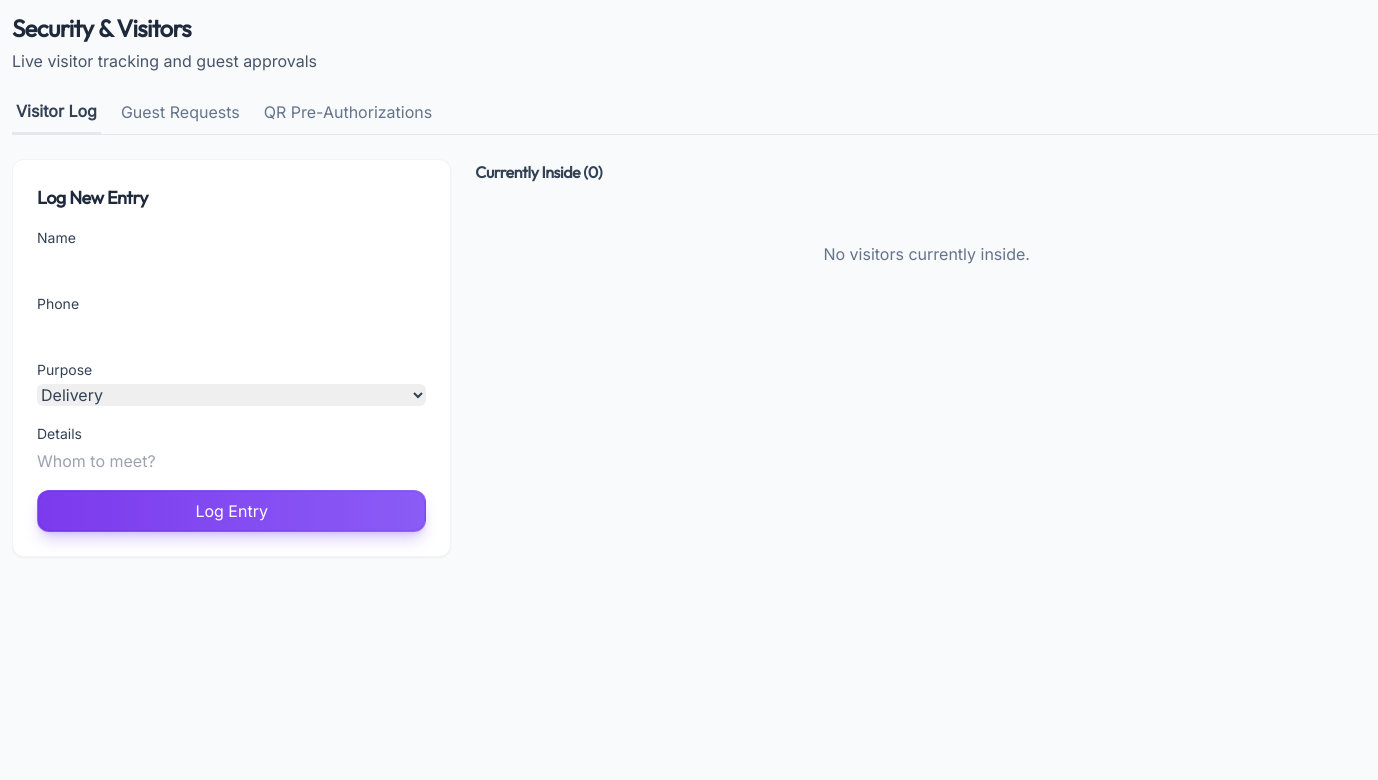
Test case: VisitorLog Component – Owner / Security › renders pending guest request cards
Click the button "Guest Requests": (180, 116) [117,98,244,134]
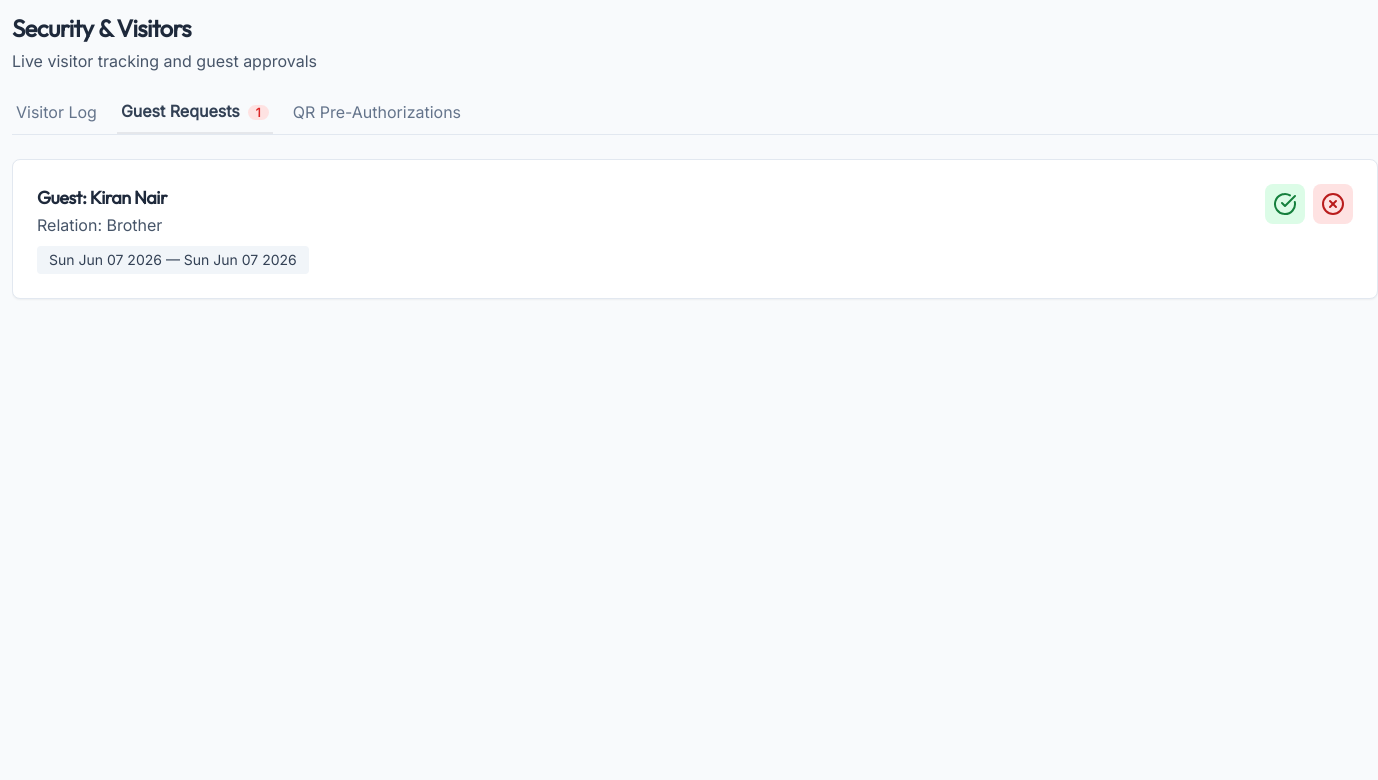
Check: the heading "Guest: Kiran Nair" is shown, box [37,186,167,209]
Check: the text "Relation: Brother" is shown, box [37,215,162,235]
